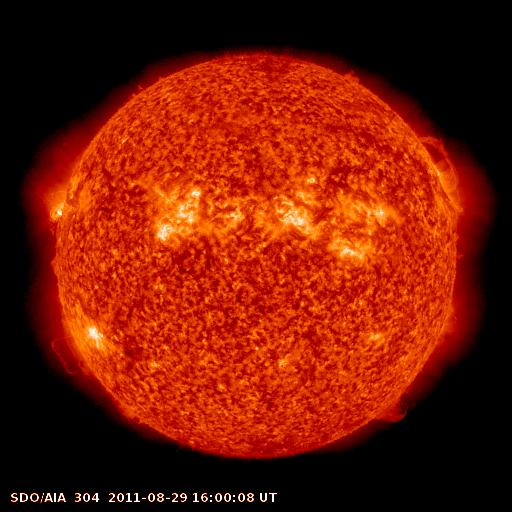prominence: (416, 129, 468, 192), (42, 327, 102, 380), (369, 392, 412, 427), (434, 304, 467, 340)
